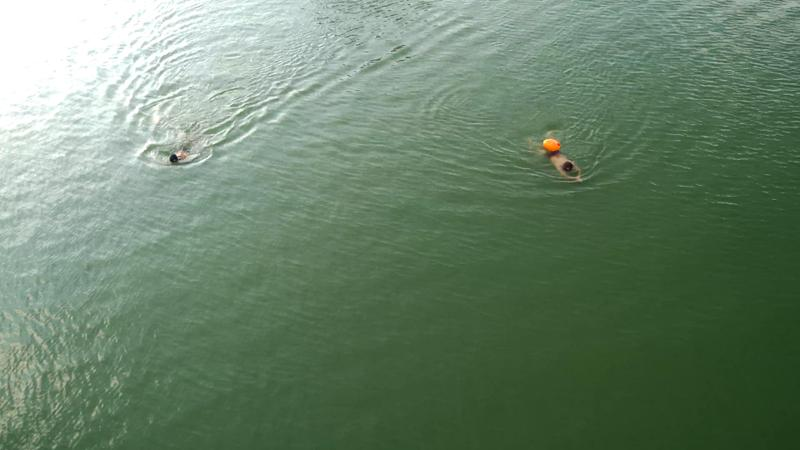swimmers: (525, 129, 583, 184), (167, 139, 192, 164)
